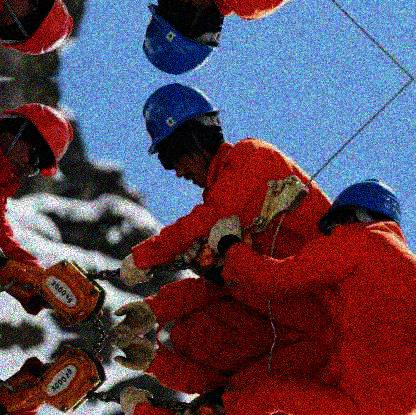helmet: (142, 81, 222, 189), (1, 101, 74, 187)
